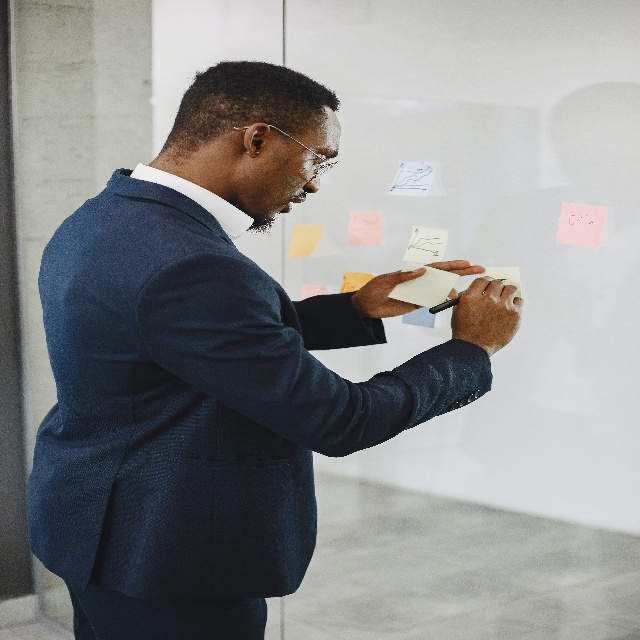Gafas: (233, 119, 341, 183)
Sin_guantes: (360, 258, 486, 322), (449, 271, 525, 354)
